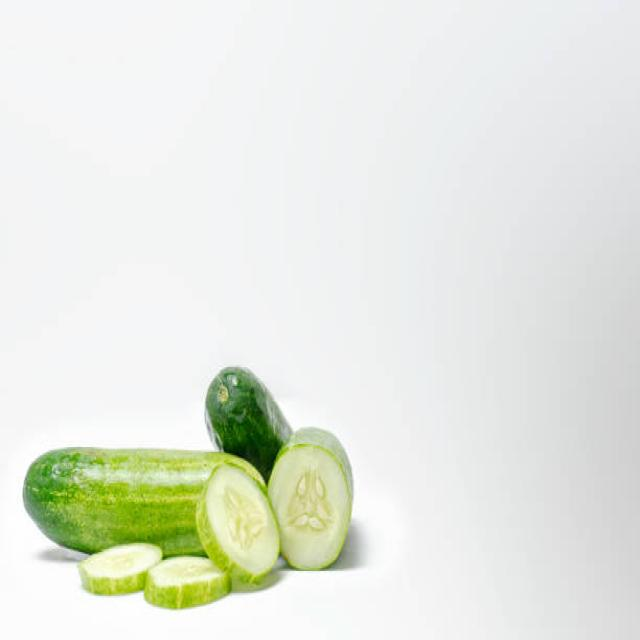cucumber: (21, 443, 265, 563)
